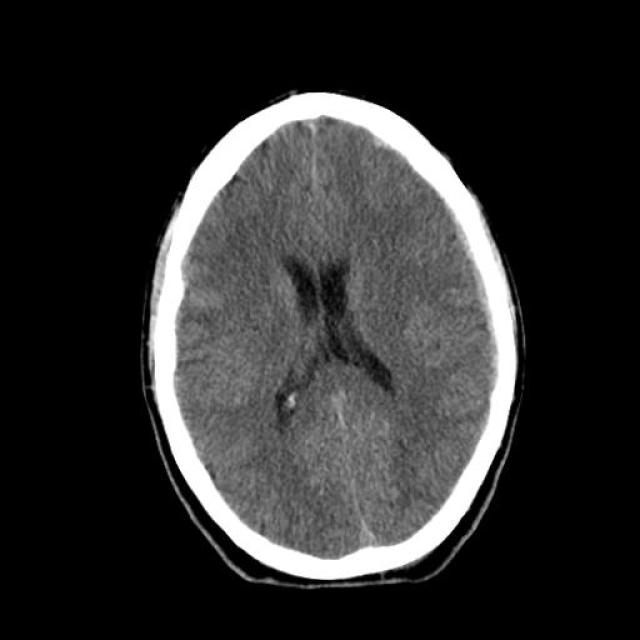Subdural: (430, 179, 531, 402)
